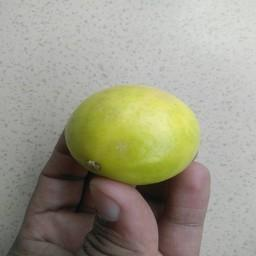Good_lime: (56, 70, 204, 202)
